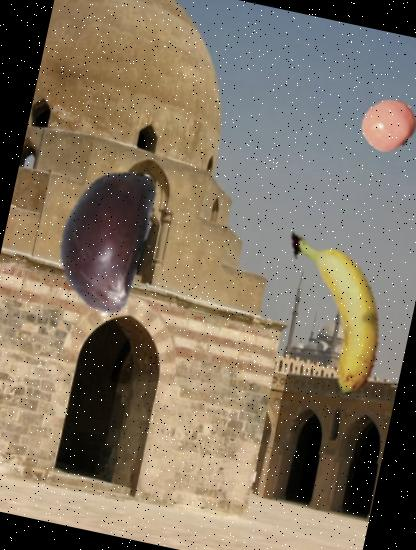Banana: (242, 228, 415, 402)
Chestnut: (15, 151, 192, 328)
Clementine: (356, 92, 416, 158)
